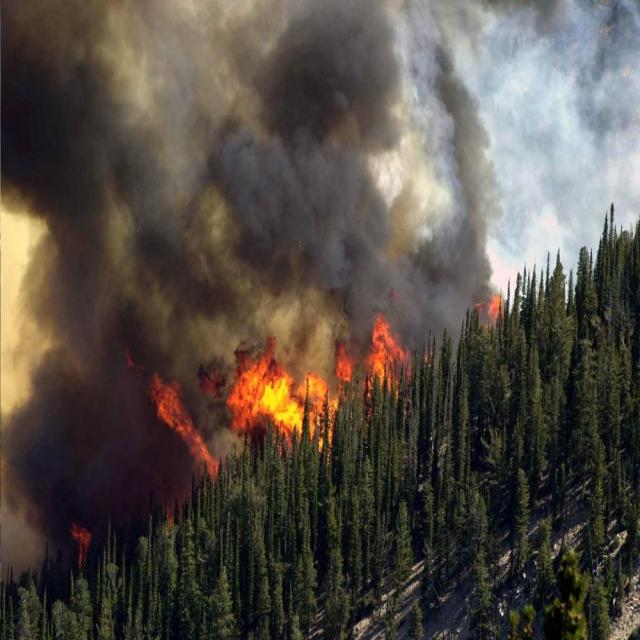smoke: (24, 14, 402, 324)
